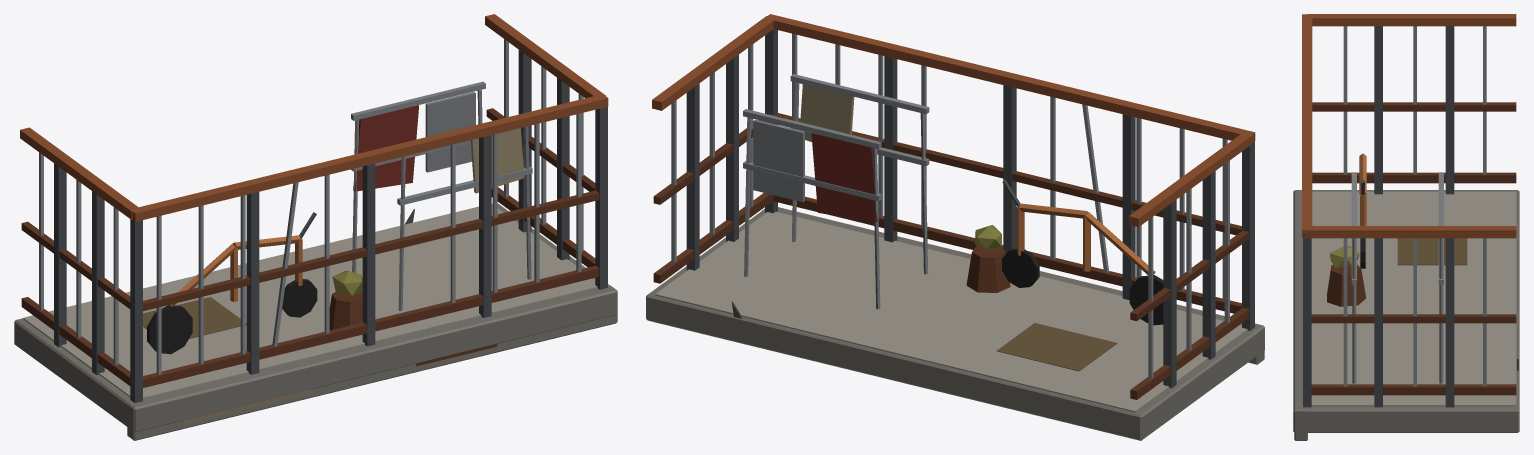
Rendered from bld_balcony.fbx.
3 renders of one model, left to right at view 1: azimuth 30°, elevation 25°; view 2: azimuth 150°, elevation 25°; view 3: azimuth 270°, elevation 25°, orthographic. The views are drawn at different scales.
Parts seen in each view (by area): view 1: bld_balcony; view 2: bld_balcony; view 3: bld_balcony.
Part boxes in pixels (box(x1,y1,x2,y2)): bld_balcony: box(14, 14, 617, 440); bld_balcony: box(646, 14, 1264, 440); bld_balcony: box(1293, 14, 1519, 440).
Bounding box in the file's own units: 3 × 1.33 × 1.3.
